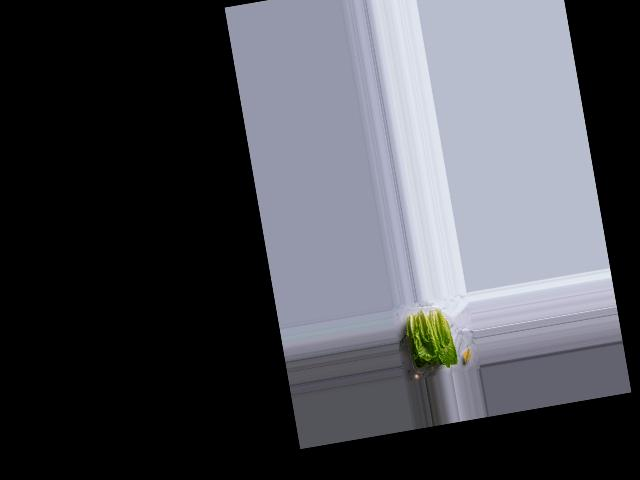lettuce: (401, 305, 461, 374)
